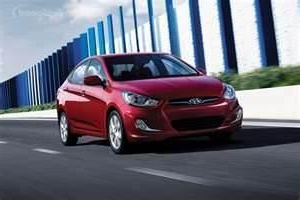car: (42, 46, 254, 159)
